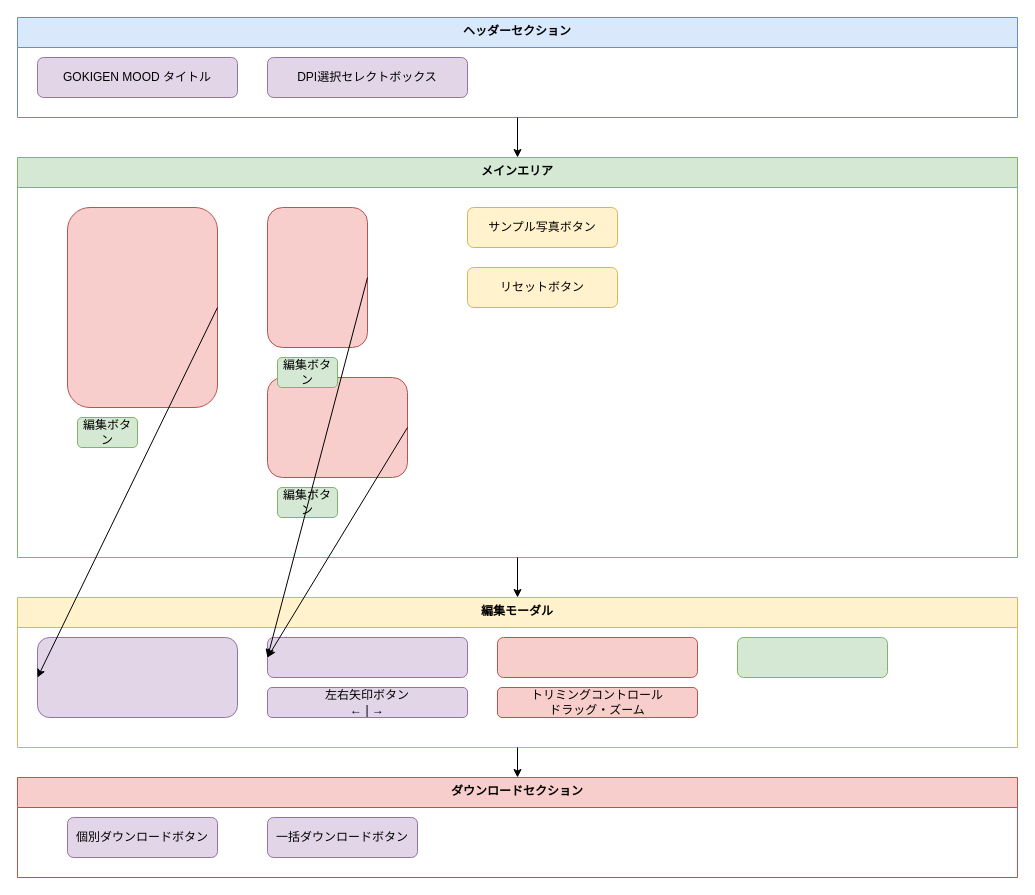
Image size: 1035x895. Some labels were removed from this diagram. Each missing label, with the centre of its shape:
"フィルターコントロール デュオトーン・色調調整" belongs at (597,657).
"保存・キャンセルボタン" belongs at (812,657).
"写真フレーム1 - A4版 210×297mm" belongs at (142,307).
"写真フレーム2 - L版 89×127mm" belongs at (317,277).
"写真フレーム3 - L版 127×89mm" belongs at (337,427).
"写真プレビューエリア" belongs at (137,677).
"写真切り替えタブ 写真1 | 写真2 | 写真3" belongs at (367,657).
